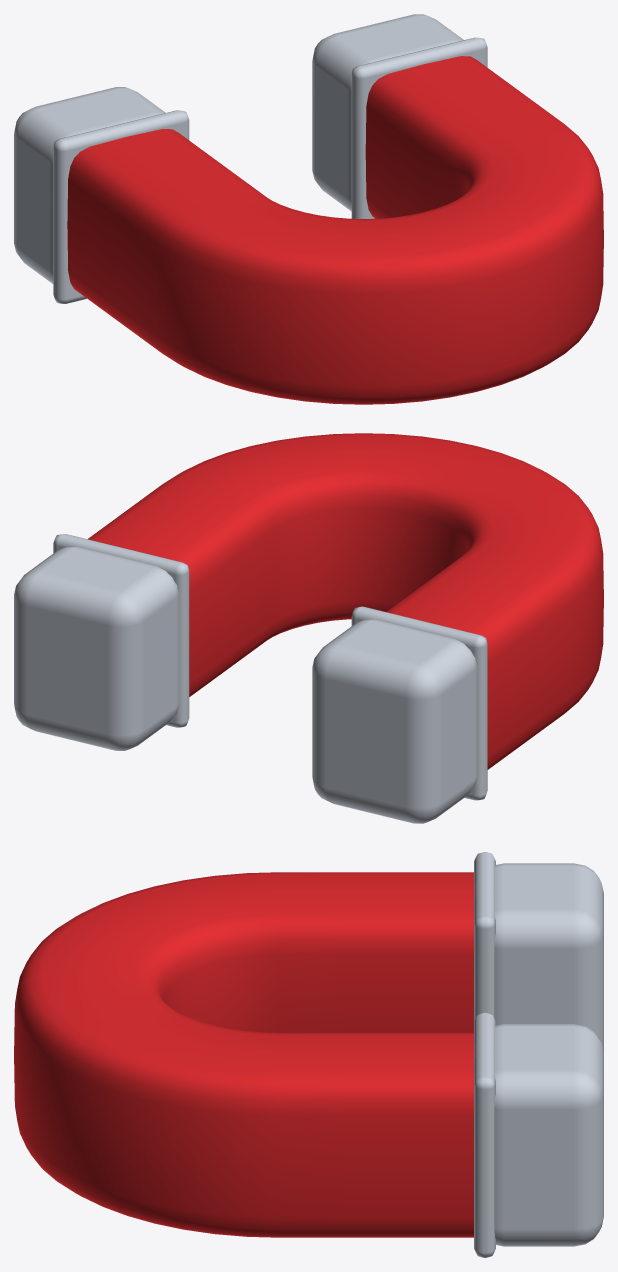
Rendered from magnet.glb.
3 views of the same model, one above another, from view 1: azimuth 30°, elevation 25°; view 2: azimuth 150°, elevation 25°; view 3: azimuth 270°, elevation 25° (orthographic). The views are drawn at different scales.
Visible parts, largest first — view 1: magnet; view 2: magnet; view 3: magnet.
Part boxes in pixels (bbox=[...]): magnet: bbox=[14, 14, 603, 404]; magnet: bbox=[14, 433, 603, 823]; magnet: bbox=[14, 852, 603, 1257].
Bounding box in the file's own units: 0.55 × 0.2 × 0.59.
